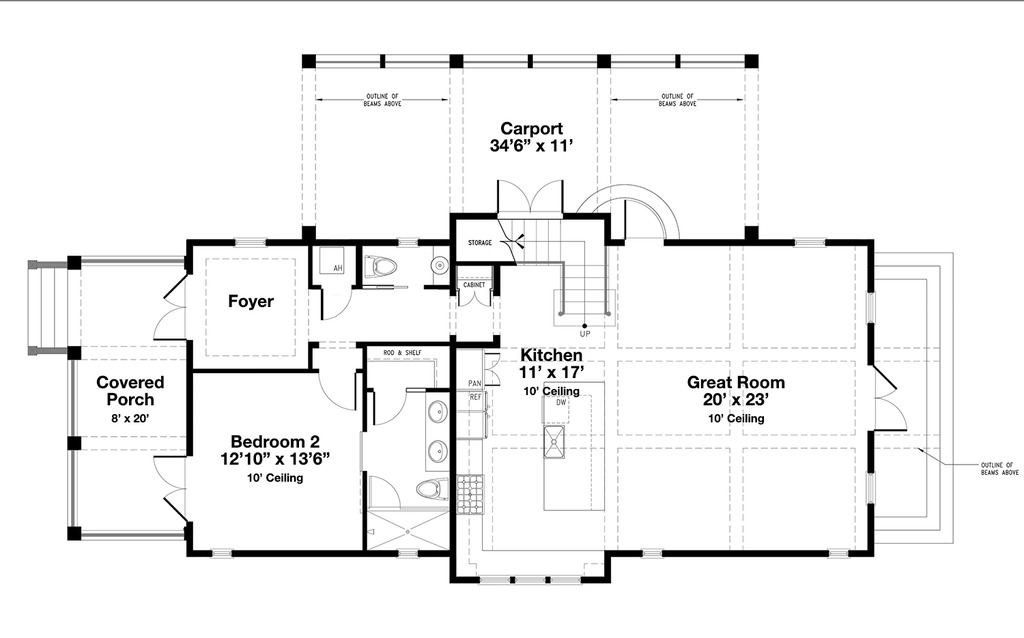door: (148, 452, 192, 526), (494, 176, 569, 215), (870, 365, 910, 436), (149, 272, 185, 344), (316, 364, 359, 413), (364, 471, 407, 513), (367, 386, 407, 425), (318, 286, 353, 322), (484, 350, 504, 386)
large_sink: (410, 474, 448, 504), (361, 253, 399, 283)
small_sink: (424, 392, 451, 474)
stairs: (456, 214, 611, 324), (27, 262, 67, 356)
windows: (477, 572, 589, 587), (863, 288, 878, 325), (230, 234, 269, 248), (793, 236, 828, 250), (863, 469, 876, 503), (207, 548, 234, 559), (639, 547, 662, 559), (823, 548, 848, 557)
